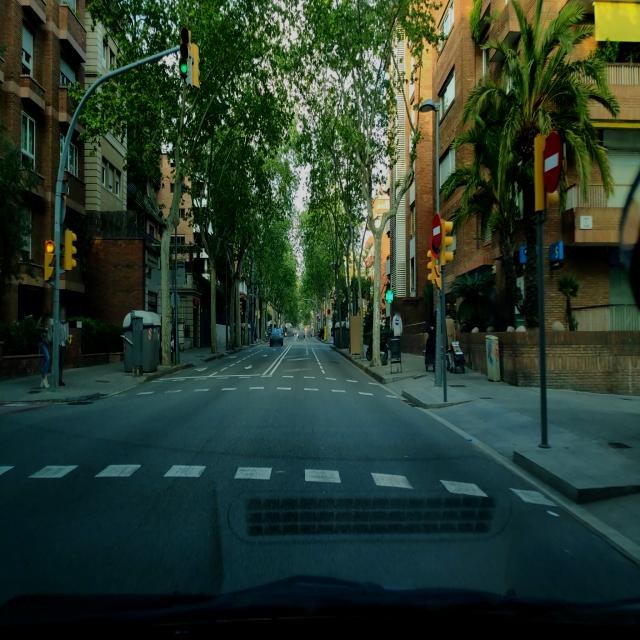car: (269, 326, 284, 347)
